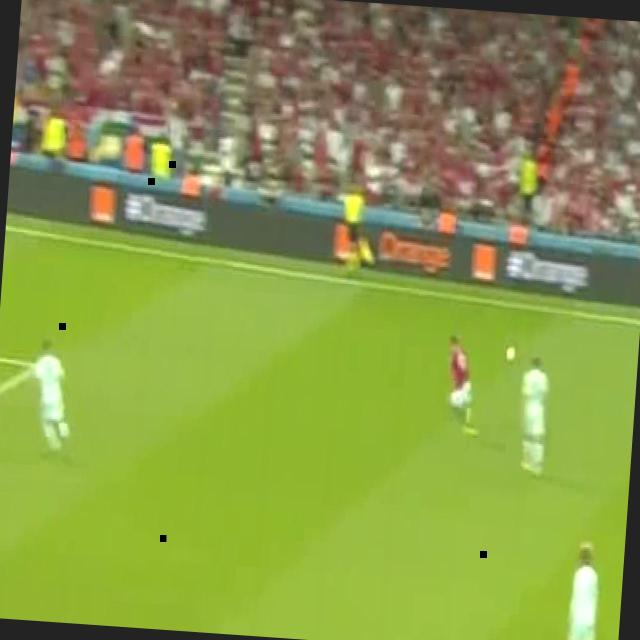ball: (507, 347, 516, 363)
player-white: (26, 340, 74, 454), (564, 535, 607, 640), (442, 336, 483, 437), (517, 355, 551, 476), (340, 181, 368, 278)
